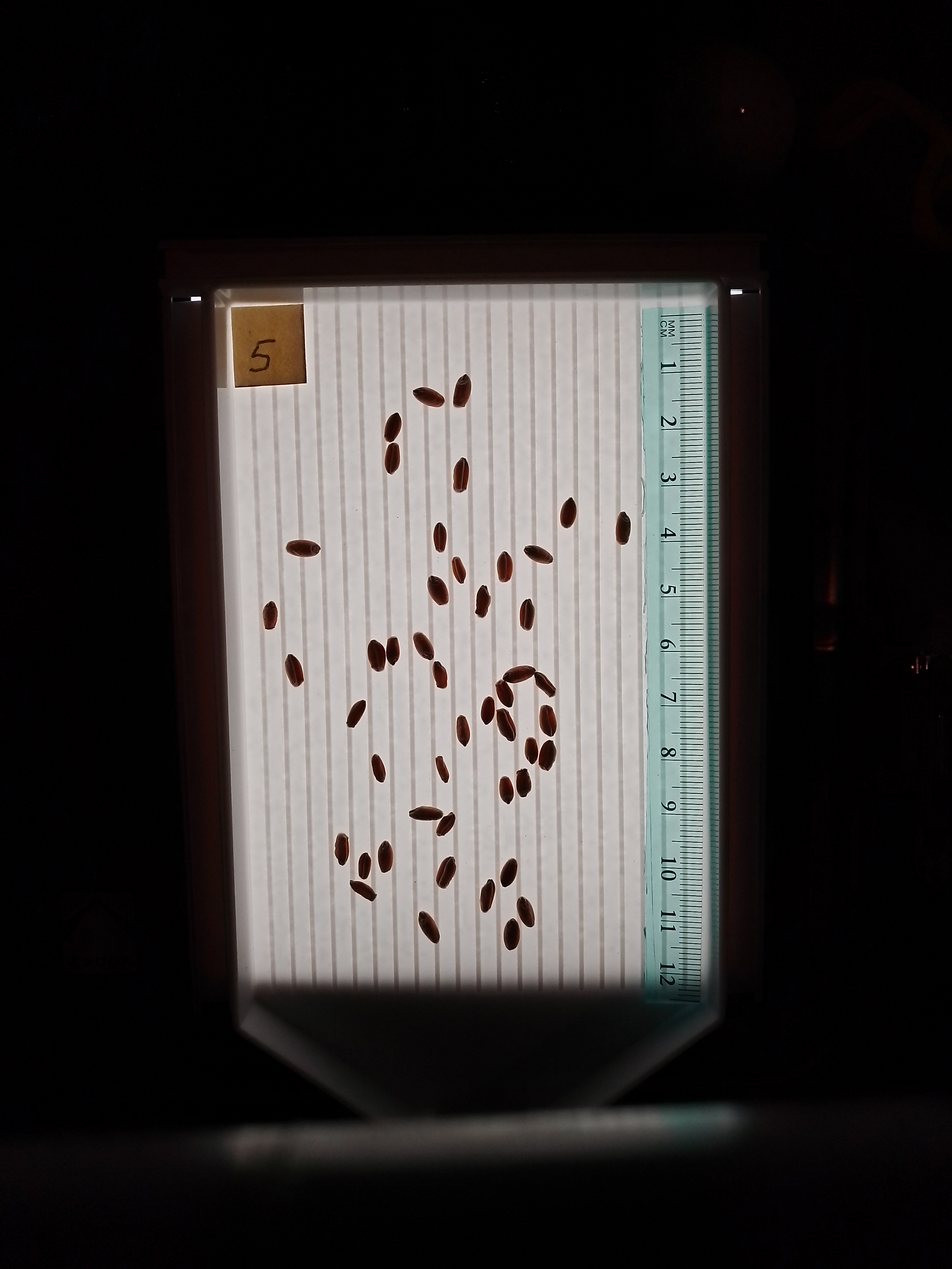seed mask: (418, 912, 439, 943), (286, 539, 320, 558), (414, 387, 445, 407), (436, 858, 456, 888), (285, 655, 304, 686), (428, 576, 448, 605), (368, 640, 386, 672), (497, 709, 515, 741), (453, 376, 471, 407), (539, 705, 557, 736), (453, 458, 469, 492), (414, 633, 434, 660), (504, 666, 535, 683), (410, 806, 442, 822), (560, 498, 577, 528), (525, 546, 553, 564), (479, 881, 495, 912), (504, 919, 520, 950), (616, 512, 631, 545), (518, 898, 535, 927), (347, 701, 365, 728), (500, 859, 518, 886), (351, 881, 375, 901), (384, 414, 401, 442), (539, 742, 556, 770), (519, 600, 534, 631), (497, 553, 513, 582), (535, 672, 555, 695), (385, 444, 400, 474), (378, 842, 393, 872), (516, 769, 532, 797), (476, 586, 490, 617), (496, 682, 513, 707), (335, 834, 349, 864), (263, 602, 278, 630), (437, 813, 455, 836), (456, 716, 470, 745), (371, 755, 386, 782), (386, 637, 400, 664), (481, 697, 495, 723), (435, 756, 449, 782), (358, 853, 372, 879), (452, 557, 466, 583), (433, 524, 446, 552), (433, 663, 447, 688), (499, 778, 513, 803), (526, 739, 539, 763)
